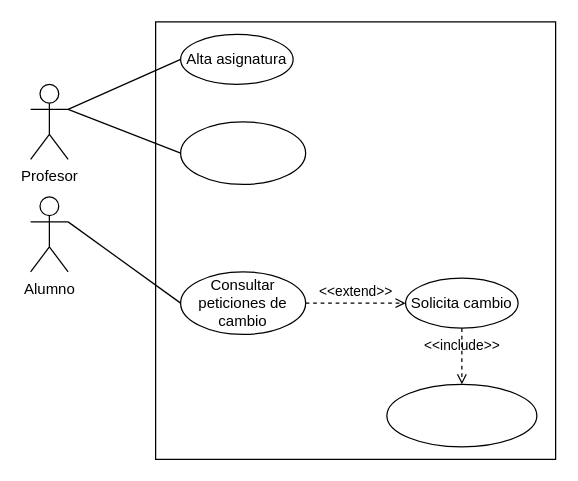
The diagram is 578 pixels wide and 481 high, and some of its shapes have lost their labels. The shapes that lost their labels are listed below. From the top down, each one's centre as x and y in pixels, then its label:
At point (242, 152): "Proporciona listado alumnos".
At point (461, 415): "almacen de datos en sistema".
